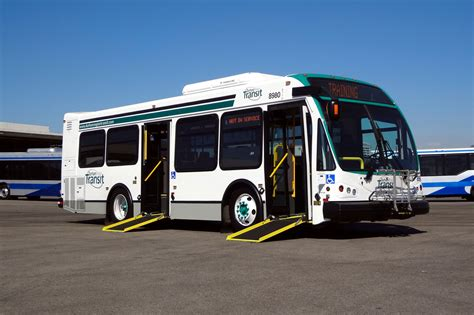bus: (62, 75, 429, 227)
